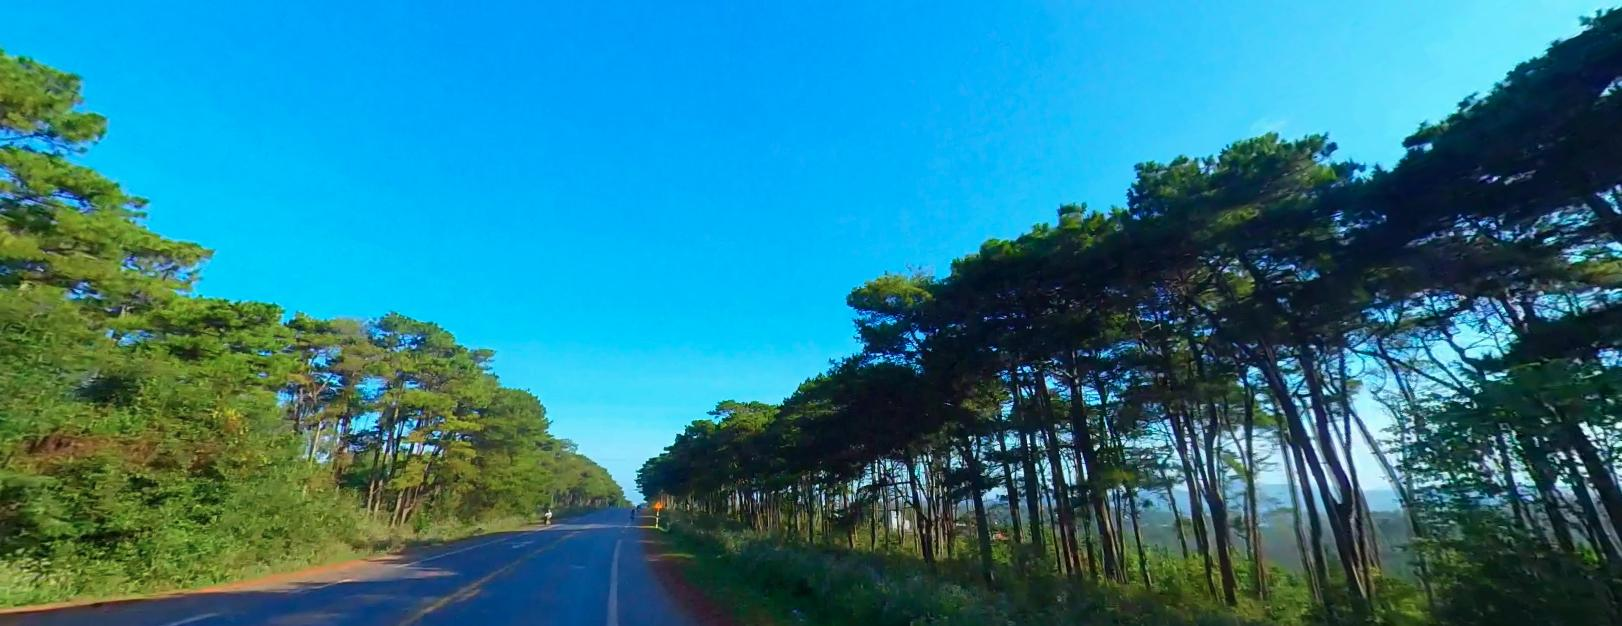Nguy hiem: (652, 499, 662, 508)
